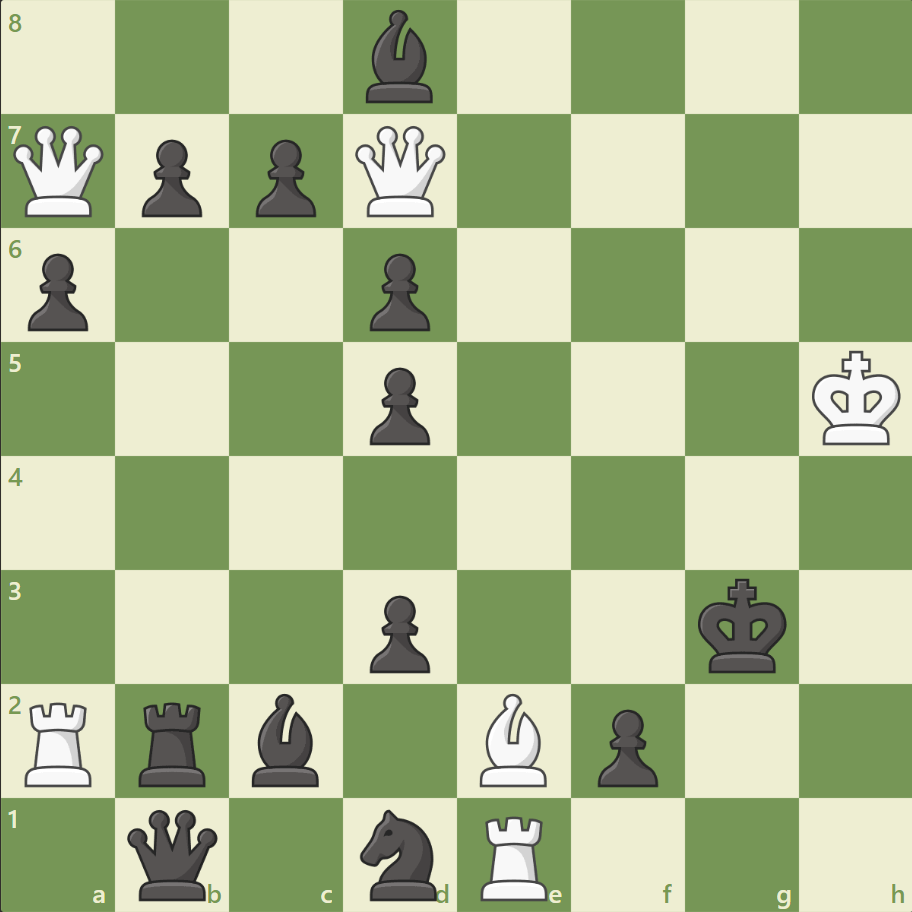B: (471, 687, 555, 790)
K: (806, 344, 906, 452)
Q: (10, 122, 109, 222), (351, 122, 450, 222)
R: (473, 806, 556, 904), (19, 693, 102, 790)
b: (358, 6, 442, 109), (244, 687, 328, 790)
k: (692, 571, 792, 679)
n: (351, 802, 449, 904)
p: (133, 132, 208, 223), (247, 132, 322, 223), (20, 246, 95, 337), (361, 246, 435, 337), (361, 359, 435, 450), (361, 586, 435, 677), (588, 700, 662, 791)
q: (124, 804, 223, 903)
r: (133, 693, 215, 790)
